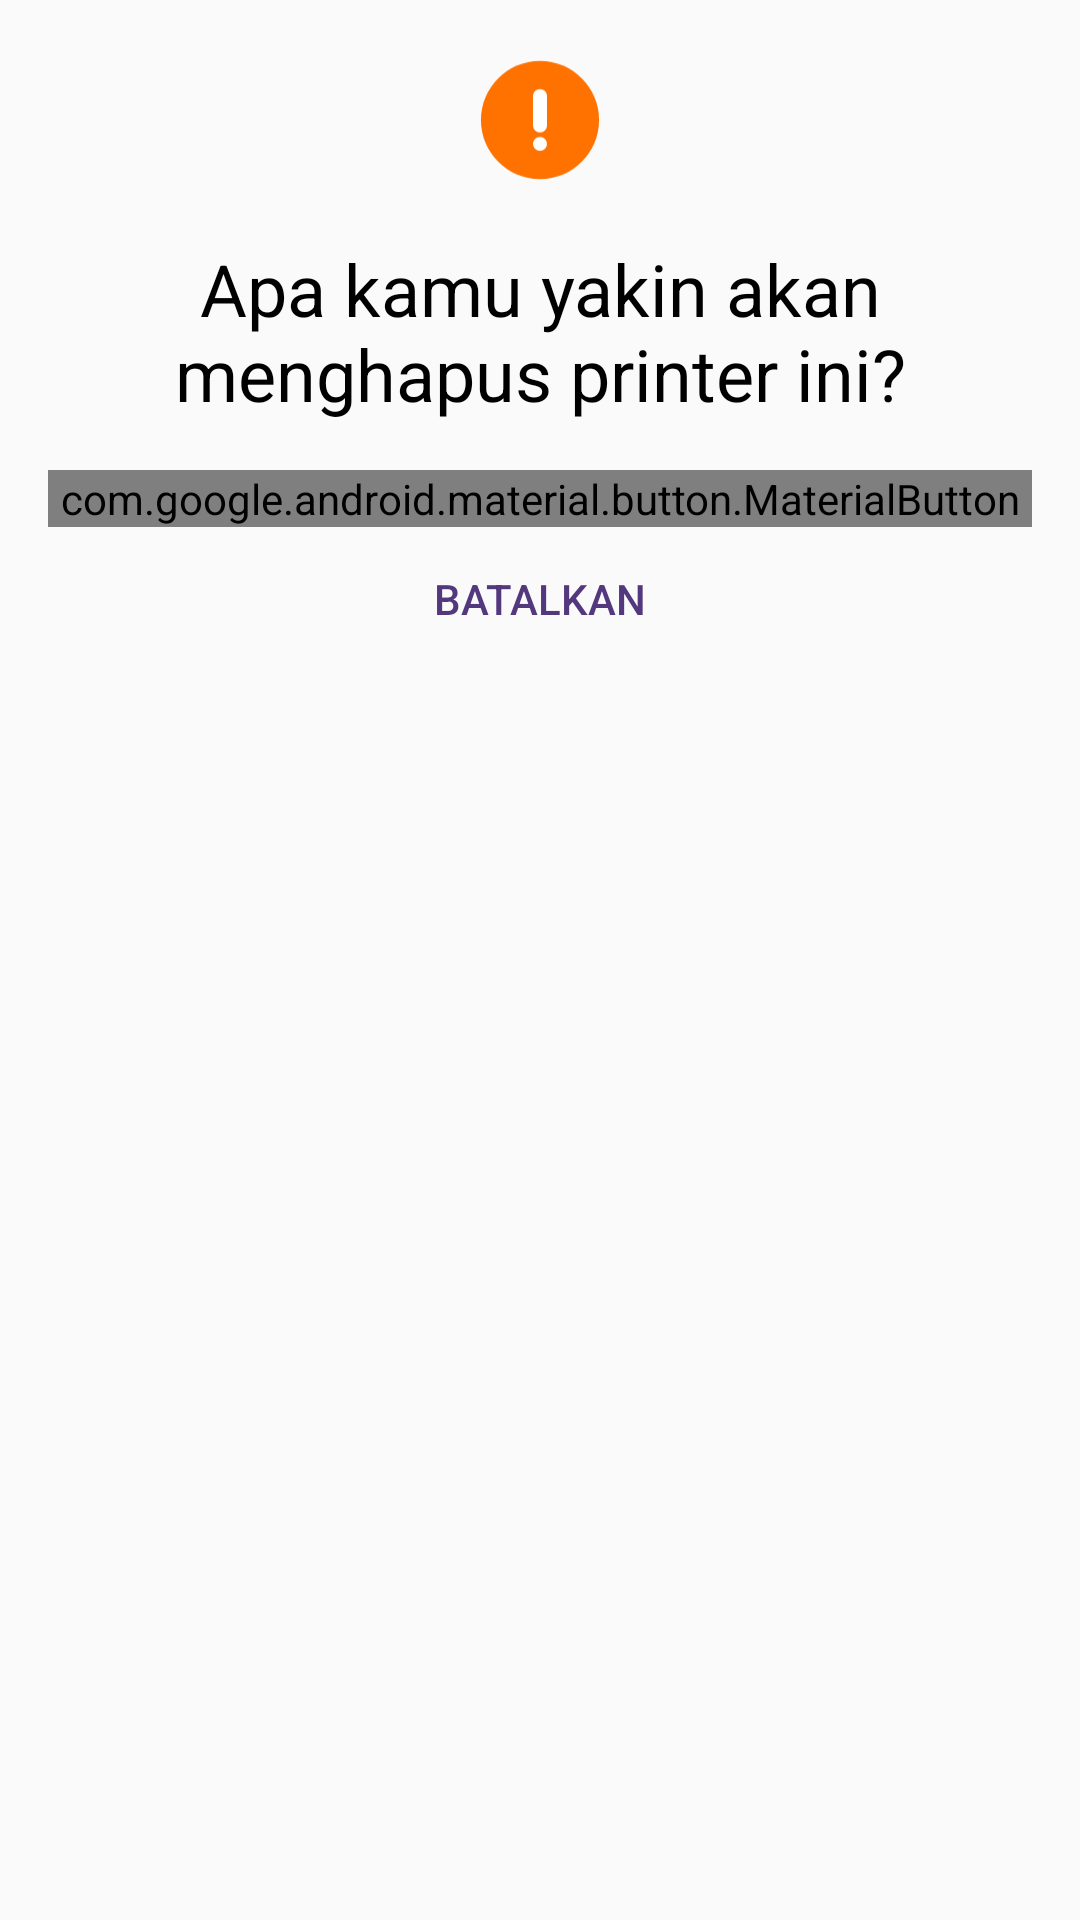

Icons on this 1080x1920 Android screen, each with the point to tap as (x,y):
warning: (540,120)
